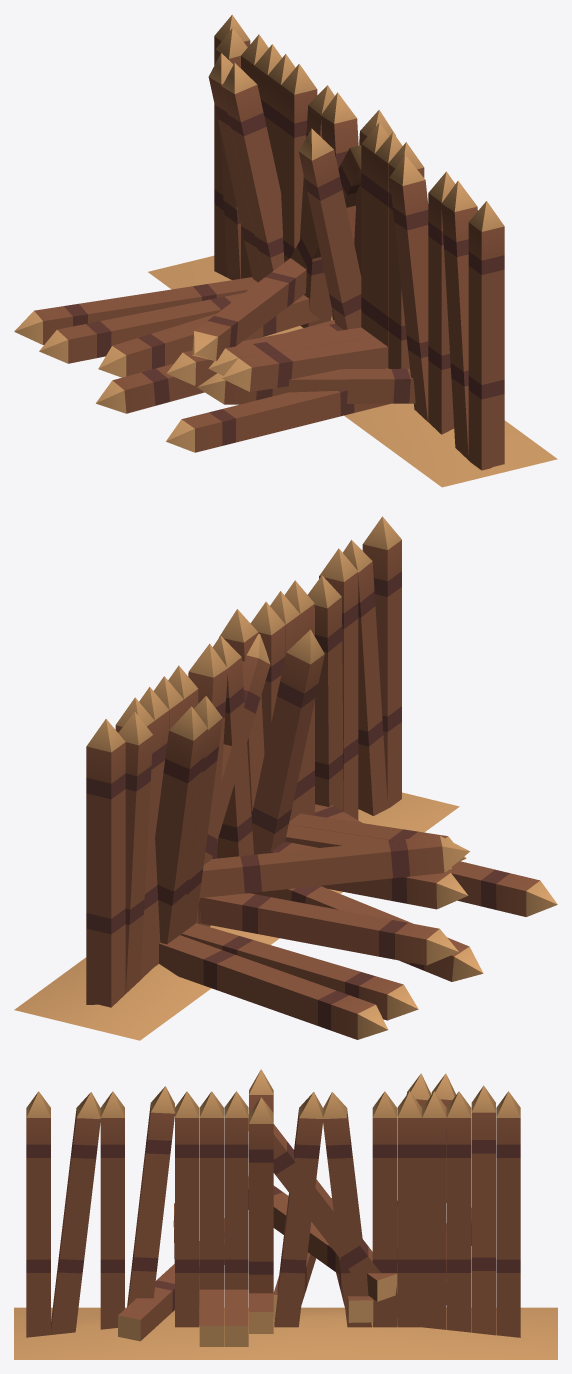
Rendered from Wooden Wall 1.fbx.
The picture shows the model from 3 angles, top to bottom: view 1: azimuth 30°, elevation 25°; view 2: azimuth 150°, elevation 25°; view 3: azimuth 270°, elevation 25°; orthographic projection. The views are drawn at different scales.
Parts seen in each view (by area): view 1: Destruction_phase_1, Wall, Destruction_phase_2; view 2: Destruction_phase_1, Wall, Destruction_phase_2; view 3: Wall, Destruction_phase_1, Destruction_phase_2.
Part boxes in pixels (x1=…): Destruction_phase_1: x1=96, y1=15, x2=504, y2=470; Wall: x1=148, y1=14, x2=557, y2=487; Destruction_phase_2: x1=14, y1=258, x2=388, y2=391; Destruction_phase_1: x1=86, y1=518, x2=557, y2=1007; Wall: x1=14, y1=516, x2=459, y2=1040; Destruction_phase_2: x1=159, y1=813, x2=469, y2=1039; Wall: x1=14, y1=1086, x2=557, y2=1359; Destruction_phase_1: x1=26, y1=1069, x2=520, y2=1341; Destruction_phase_2: x1=199, y1=1176, x2=471, y2=1346.
Size of the model in its own units: 1.39 by 1.08 by 2.2.
1 material, 1 textured.
